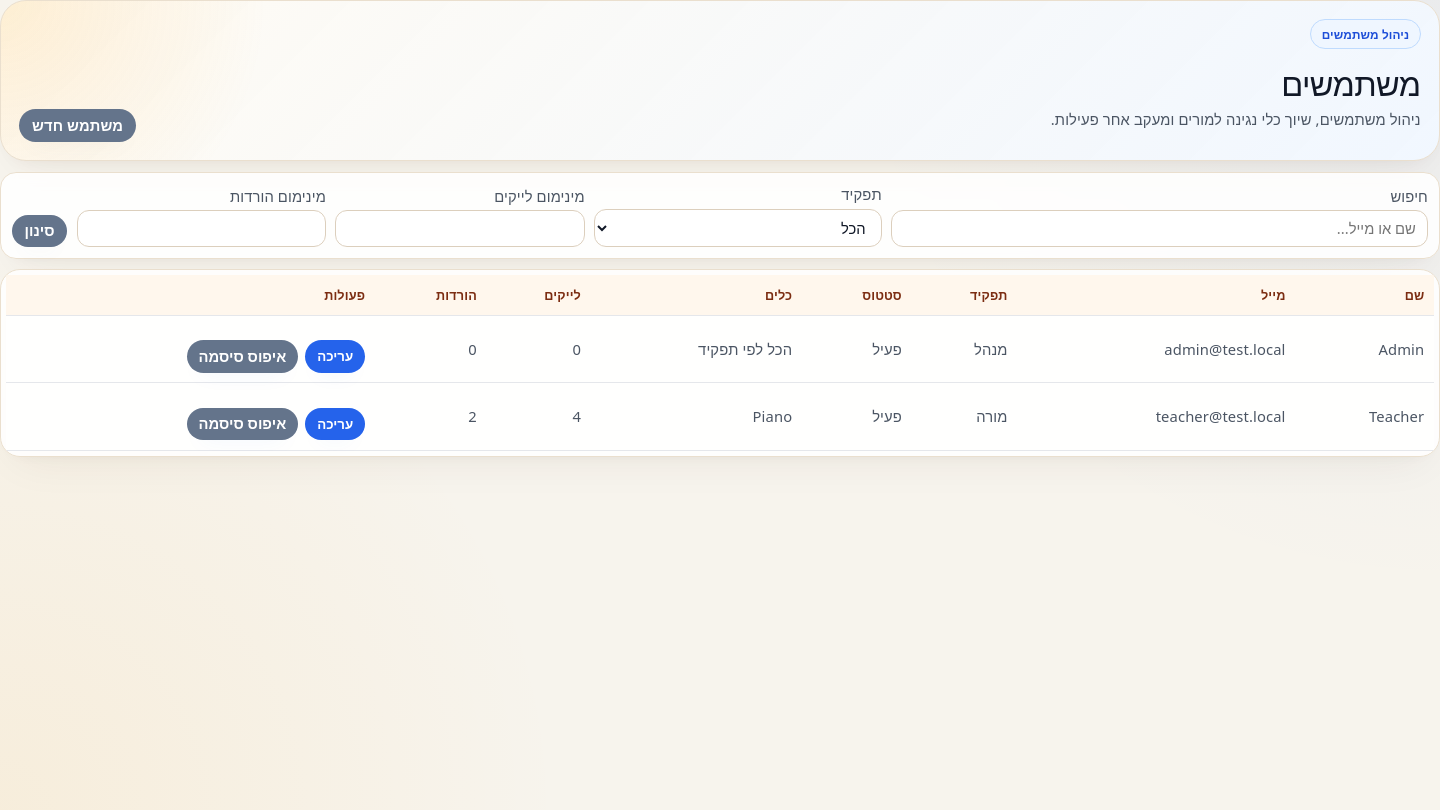
Test case: AdminUsersPage › creates a teacher with selected instruments on a separate page
The image size is (1440, 810).
Expected: the text "Admin" is shown, left=1295, top=316, right=1434, bottom=383
Click the link "משתמש חדש": [78, 126] box left=19, top=109, right=136, bottom=142
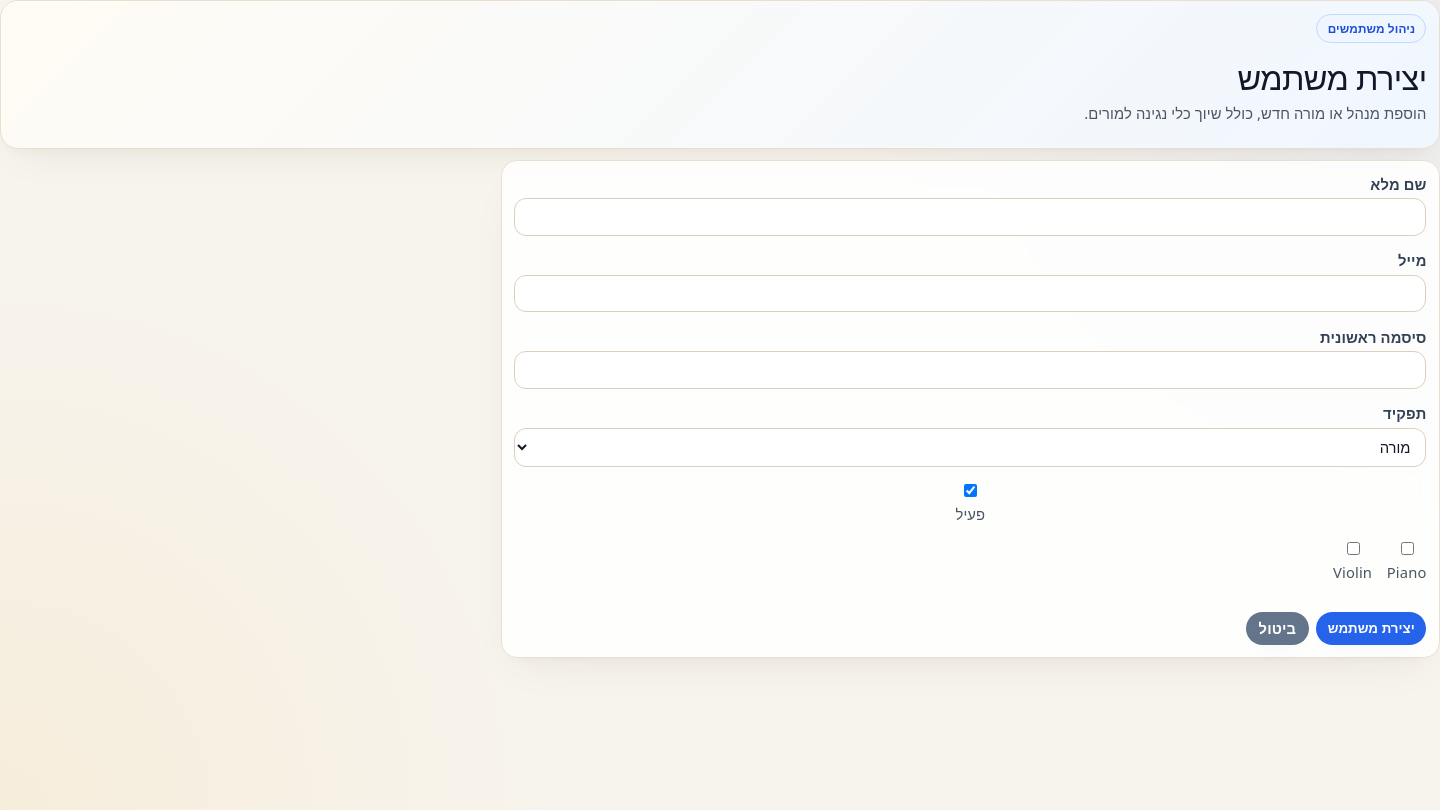
Expected: the heading "יצירת משתמש" is shown, left=1237, top=55, right=1426, bottom=100
Expected: the form "יצירת משתמש" is shown, left=501, top=160, right=1439, bottom=658
In the field labelled "שם מלא": [970, 217] box left=514, top=198, right=1426, bottom=236, type "New Teacher"
In the field labelled "מייל": [970, 294] box left=514, top=275, right=1426, bottom=312, type "new.teacher@test.local"
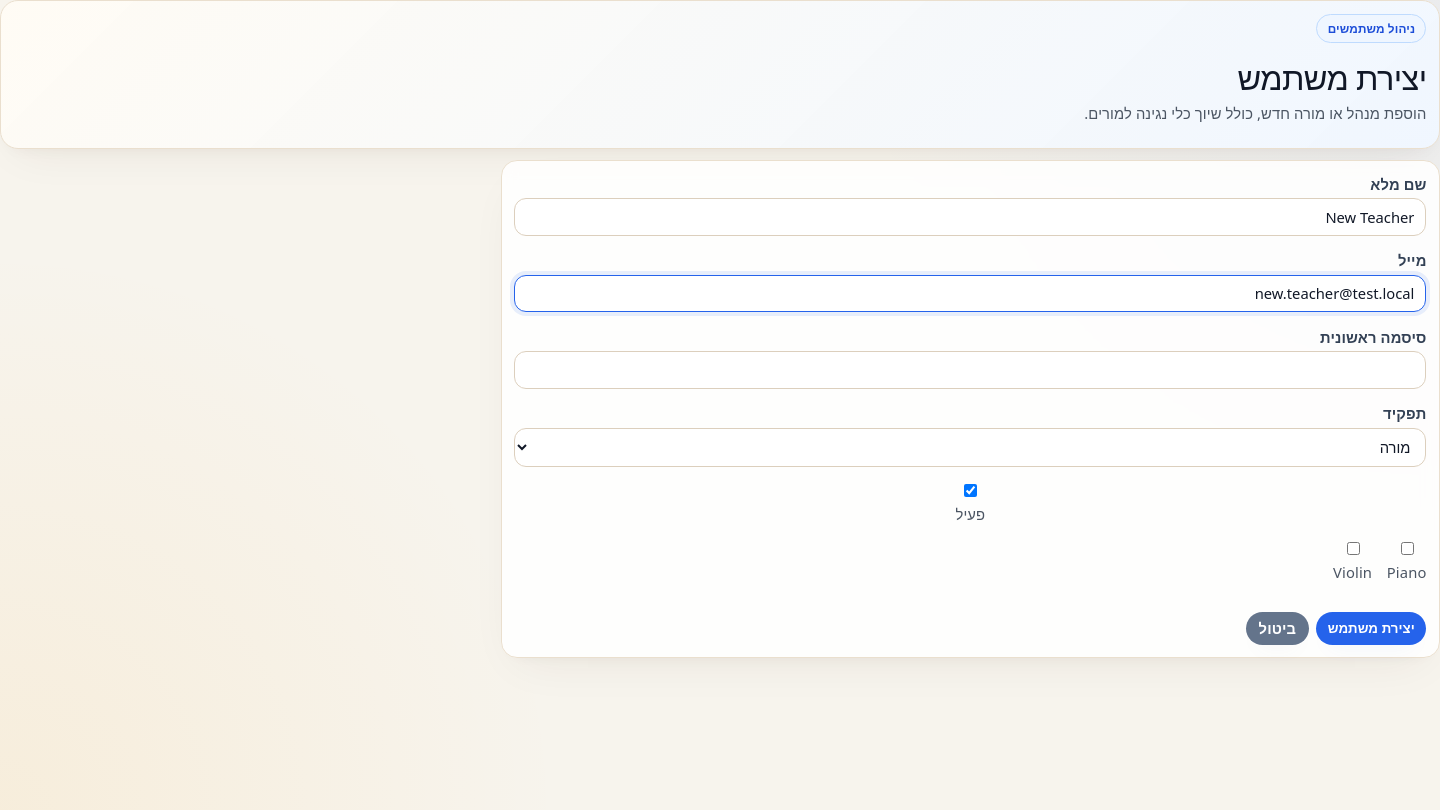
In the password field labelled "סיסמה ראשונית": [970, 370] box left=514, top=351, right=1426, bottom=389, type "Teacher123!"
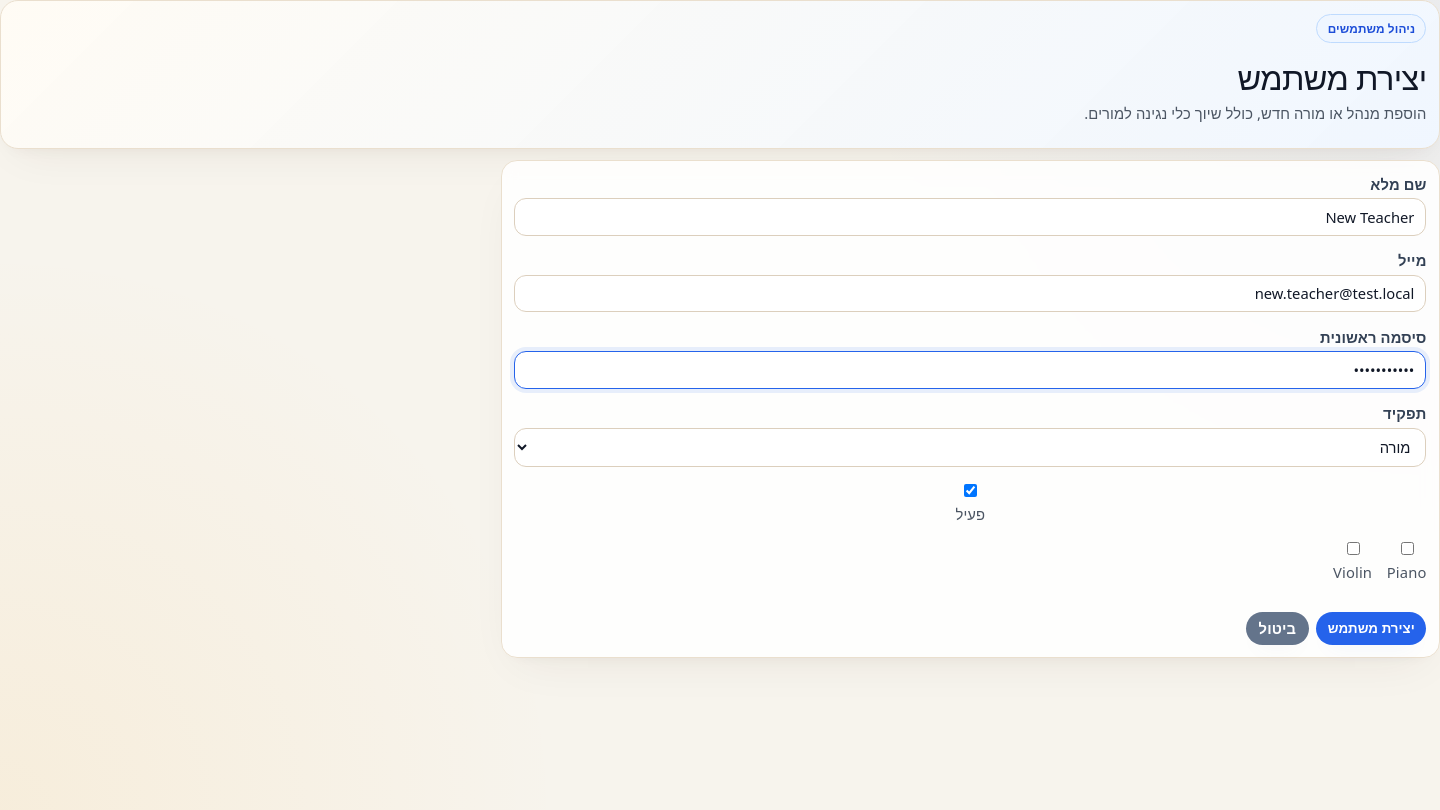
Click the checkbox labelled "Piano": [1407, 549] box left=1401, top=542, right=1414, bottom=555
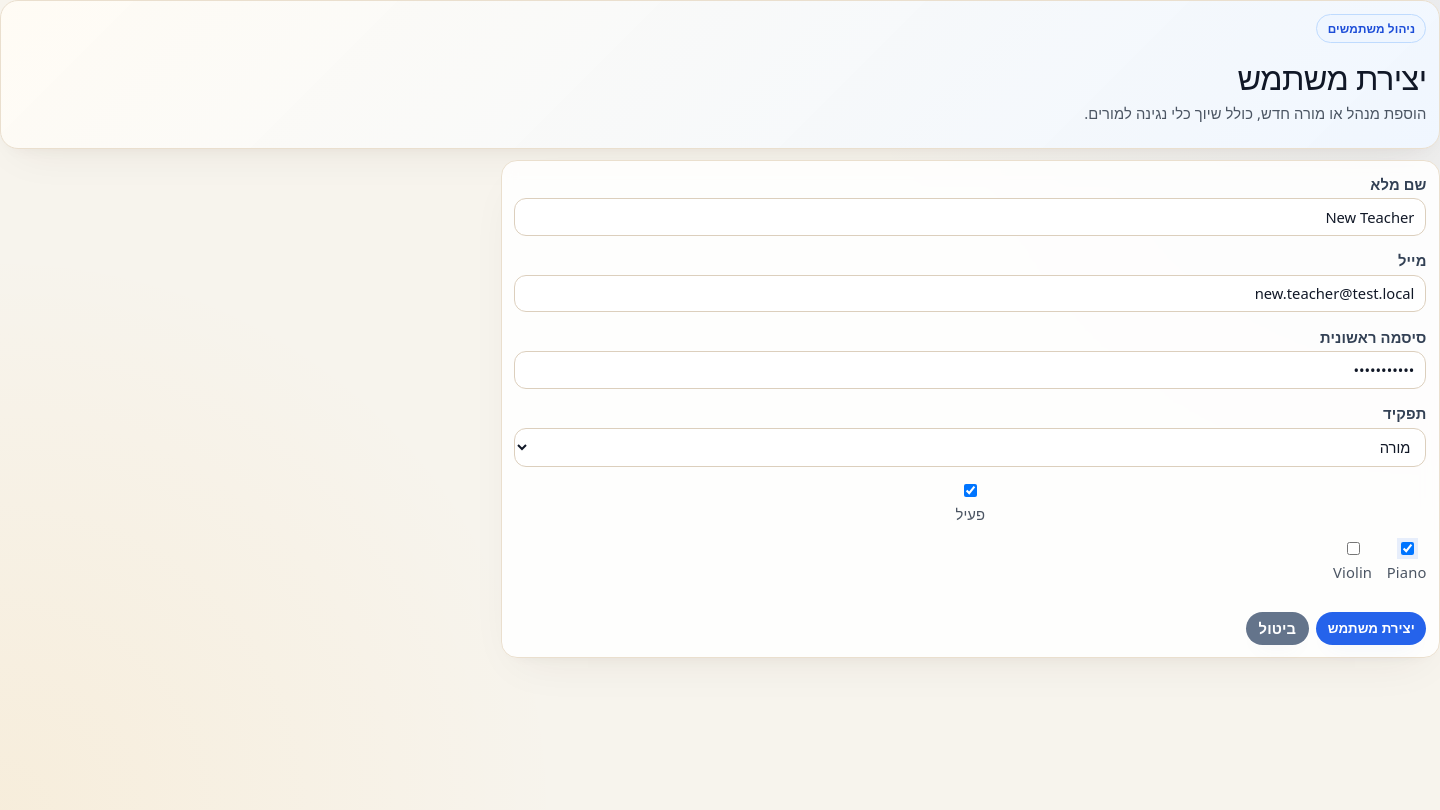
Click the checkbox labelled "Violin": [1353, 549] box left=1346, top=542, right=1360, bottom=555
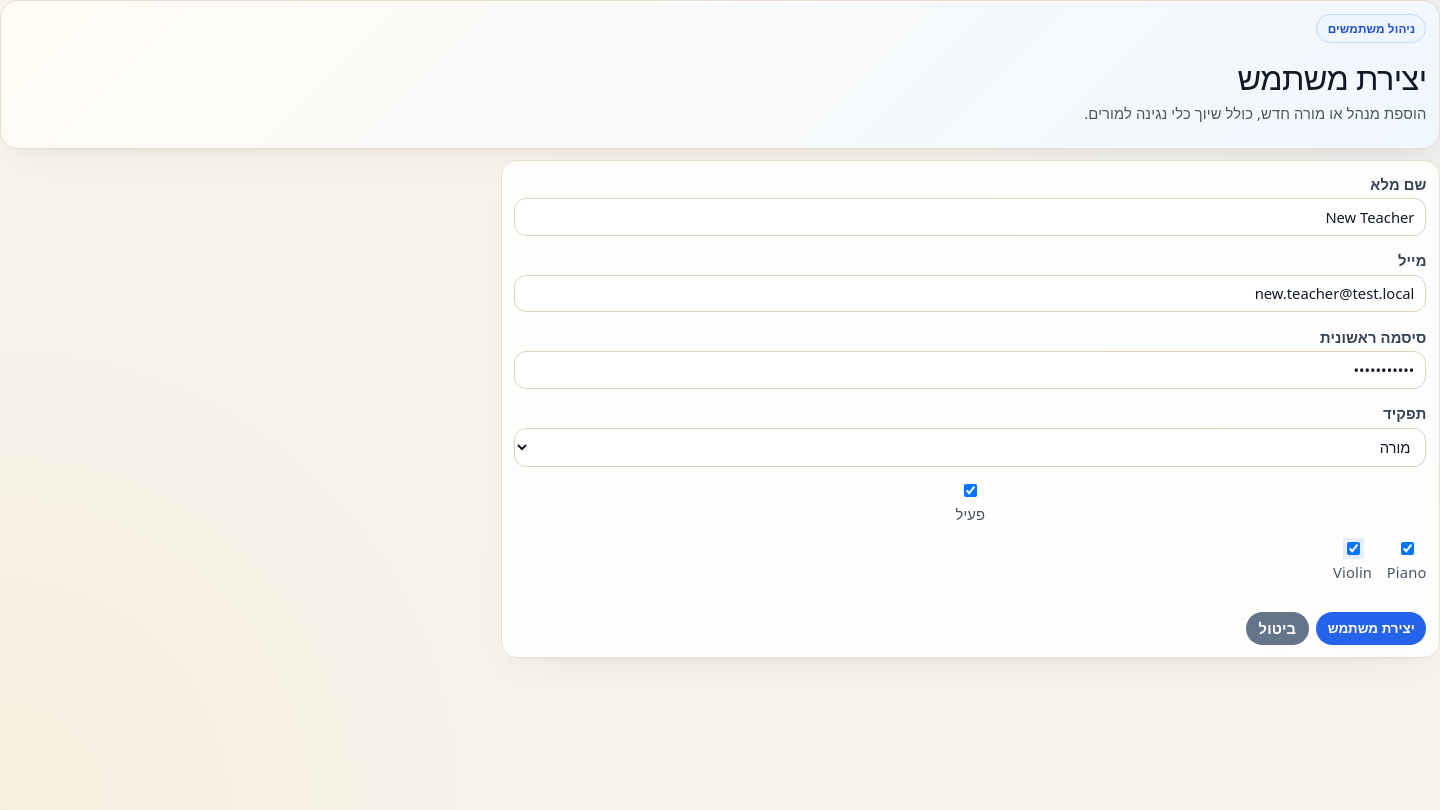
Click the button "יצירת משתמש": [1371, 628] box left=1316, top=612, right=1426, bottom=645
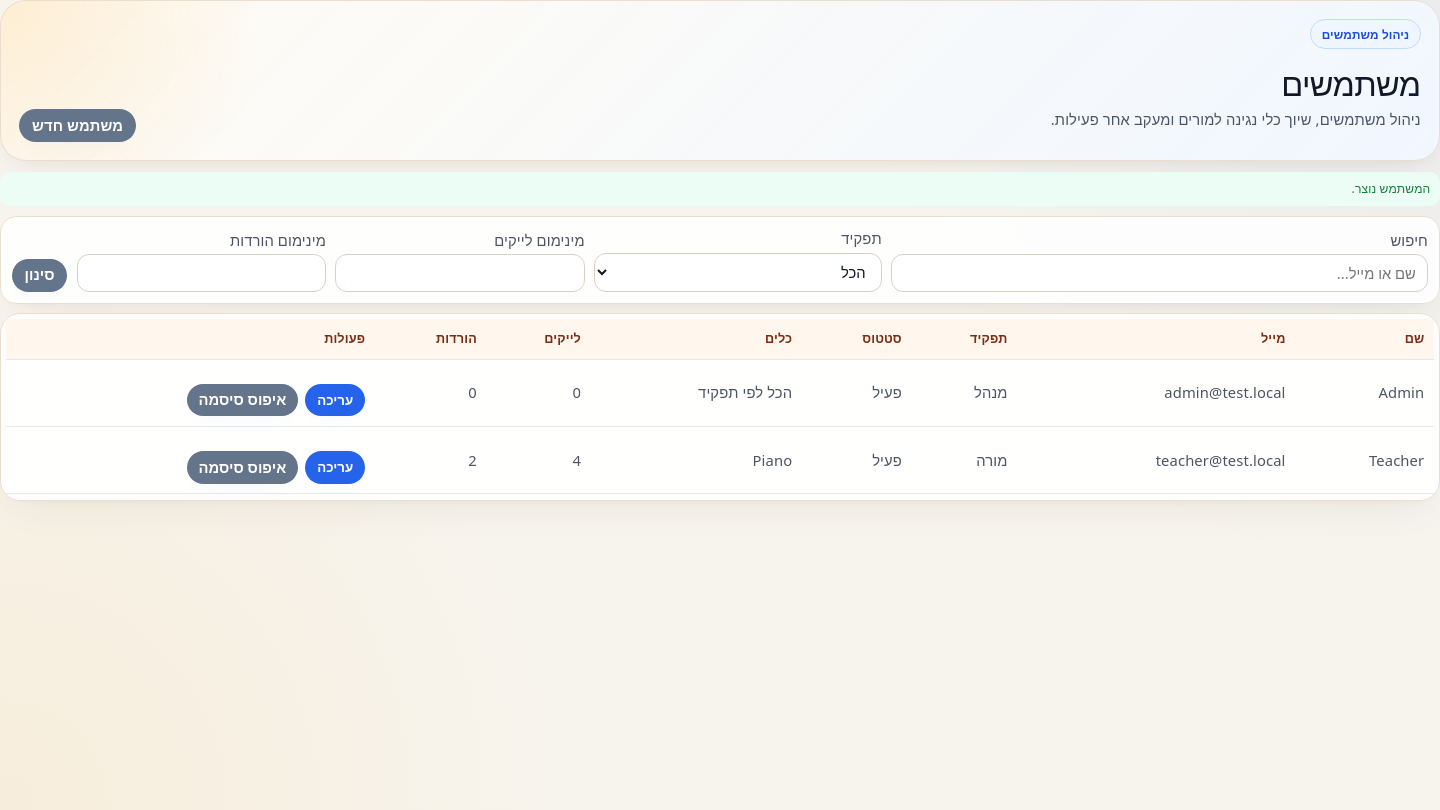
Expected: the text "המשתמש נוצר." is shown, left=0, top=172, right=1439, bottom=206
